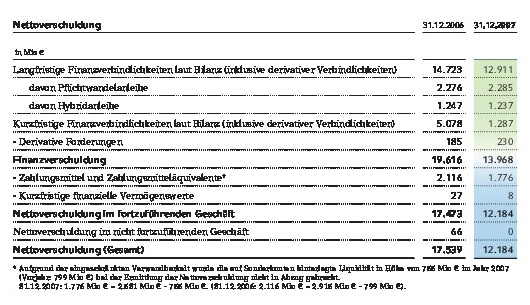table: (0, 0, 530, 305)
